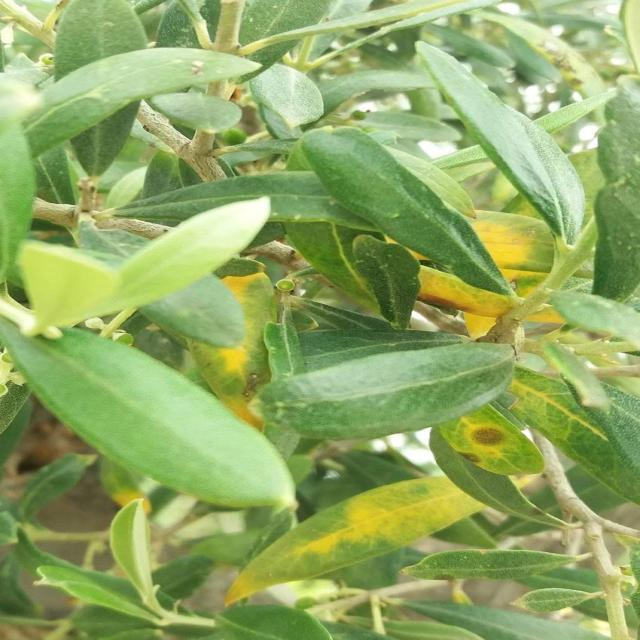OlivePeacockSpot: (226, 477, 484, 601), (202, 264, 276, 421), (418, 266, 520, 339), (439, 406, 543, 476)
